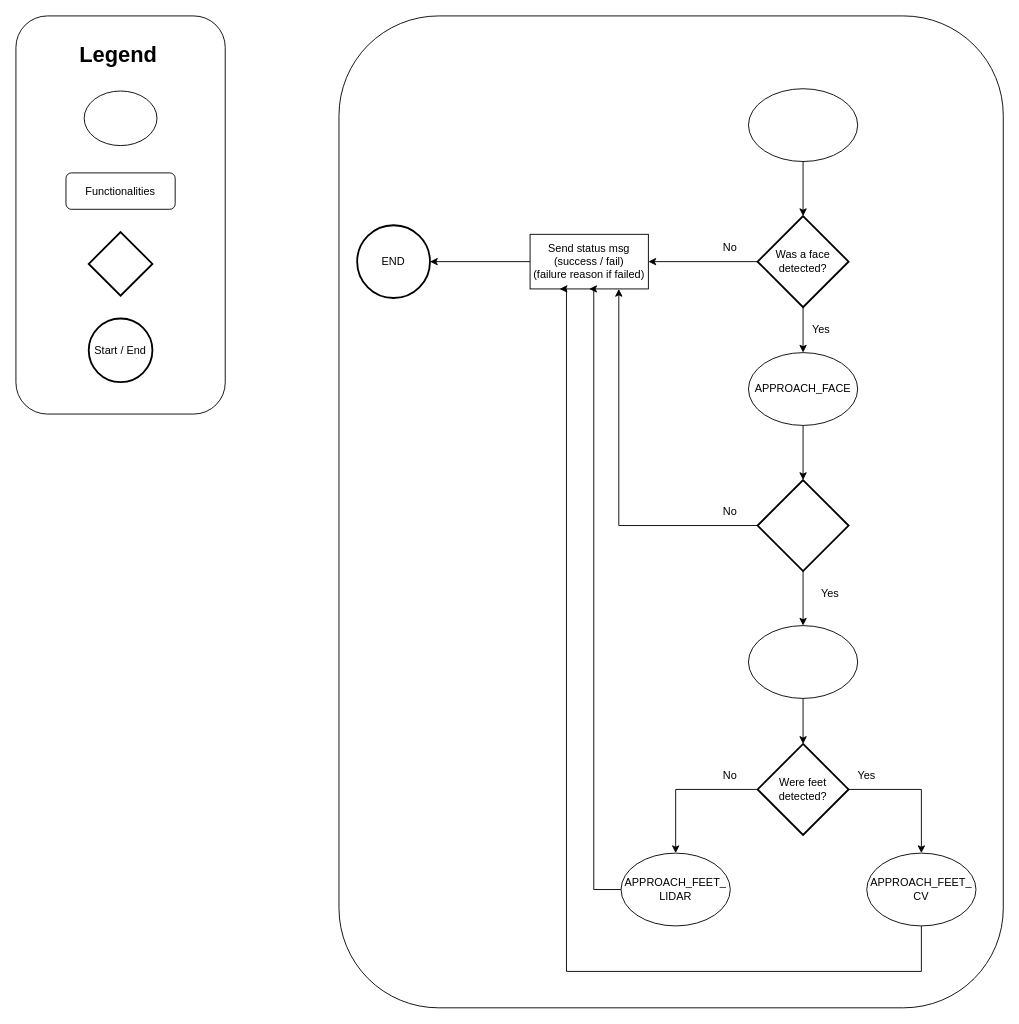
Image size: 1019x1024. Some labels were removed from this diagram. Each missing label, with the box of its shape:
Decision: (87, 231, 153, 296)
DETECT_FACE: (748, 88, 858, 162)
DETECT_FEET: (748, 625, 858, 698)
State: (83, 90, 157, 146)
Was approach successful?: (756, 479, 849, 571)
